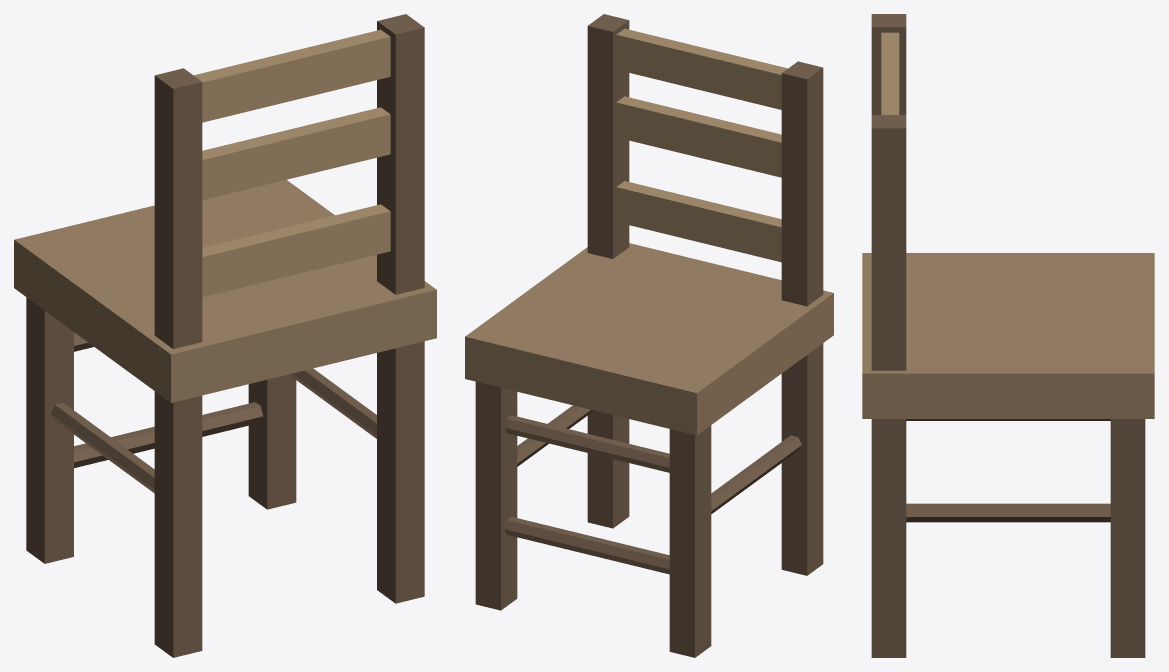
File: holzstuhl_bauern.glb
3 renders of one model, left to right at view 1: azimuth 30°, elevation 25°; view 2: azimuth 150°, elevation 25°; view 3: azimuth 270°, elevation 25°, orthographic. The views are drawn at different scales.
Parts seen in each view (by area): view 1: holzstuhl_bauern_n1; view 2: holzstuhl_bauern_n1; view 3: holzstuhl_bauern_n1.
Boxes of the visible parts, left/top/right/bottom form: holzstuhl_bauern_n1: left=14, top=14, right=436, bottom=657; holzstuhl_bauern_n1: left=465, top=14, right=833, bottom=657; holzstuhl_bauern_n1: left=862, top=14, right=1154, bottom=657.
Bounding box in the file's own units: 0.43 × 0.88 × 0.44.
